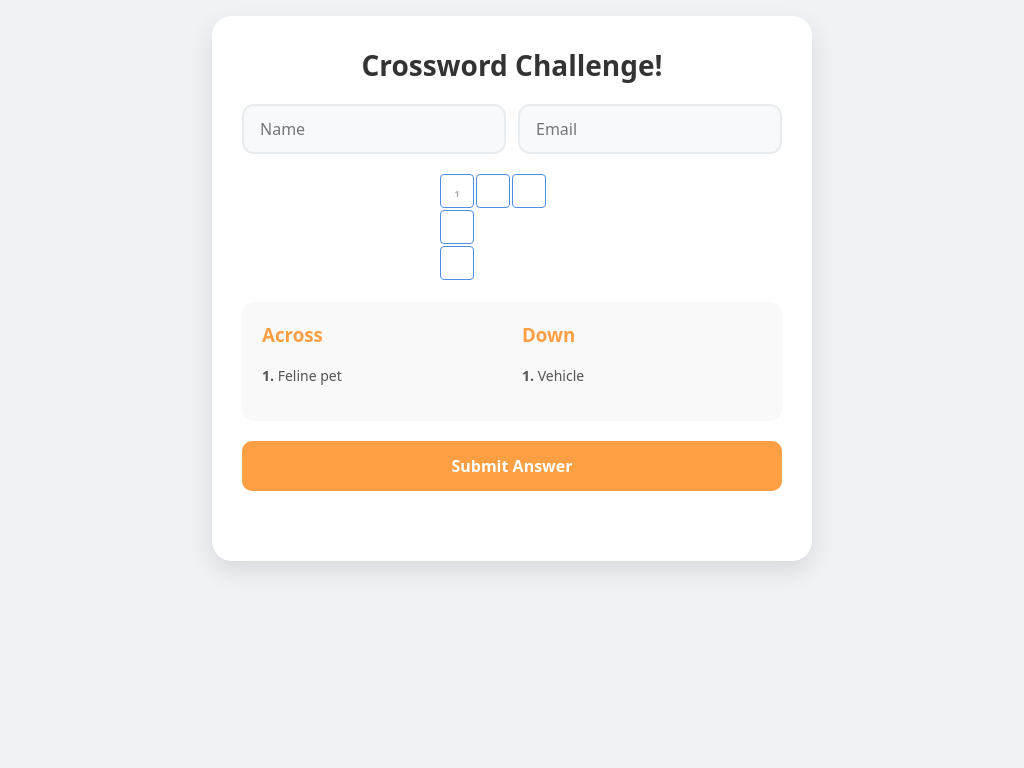
Scenario: CrosswordPuzzle › shows error toast when submitting without name
Click the button with class "submit-btn": x=512, y=466 [242, 441, 782, 491]
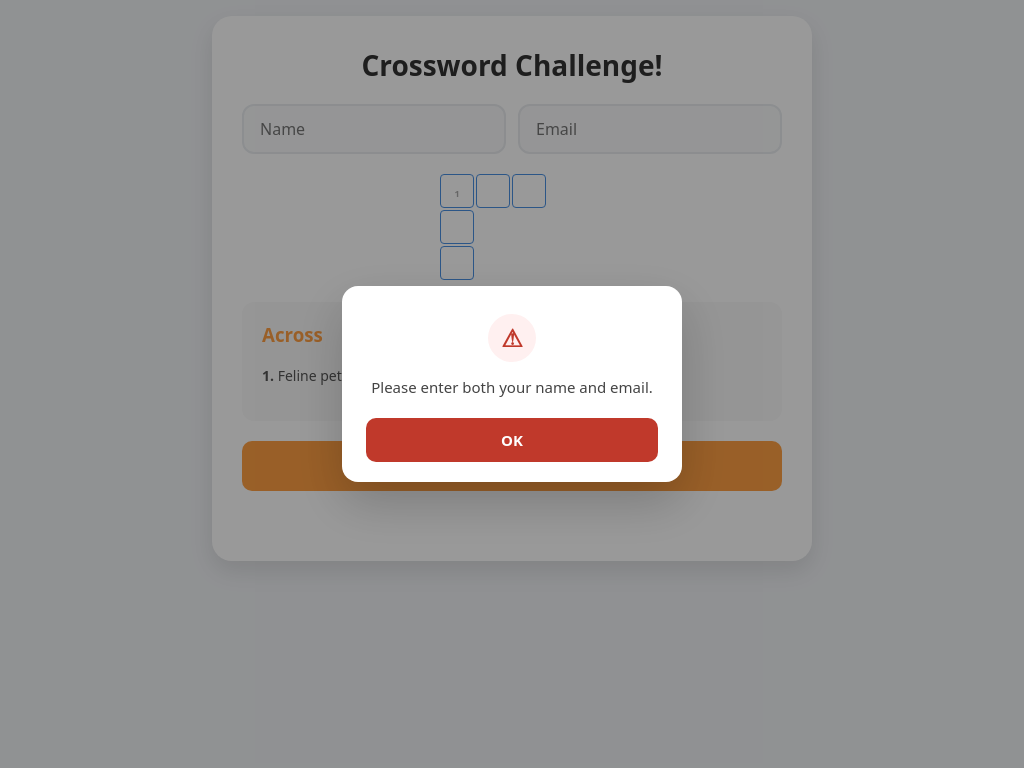
Expected: the element with class "modal-overlay" is shown
Expected: the text "Please enter both your name and email" is shown, [371, 377, 653, 397]
